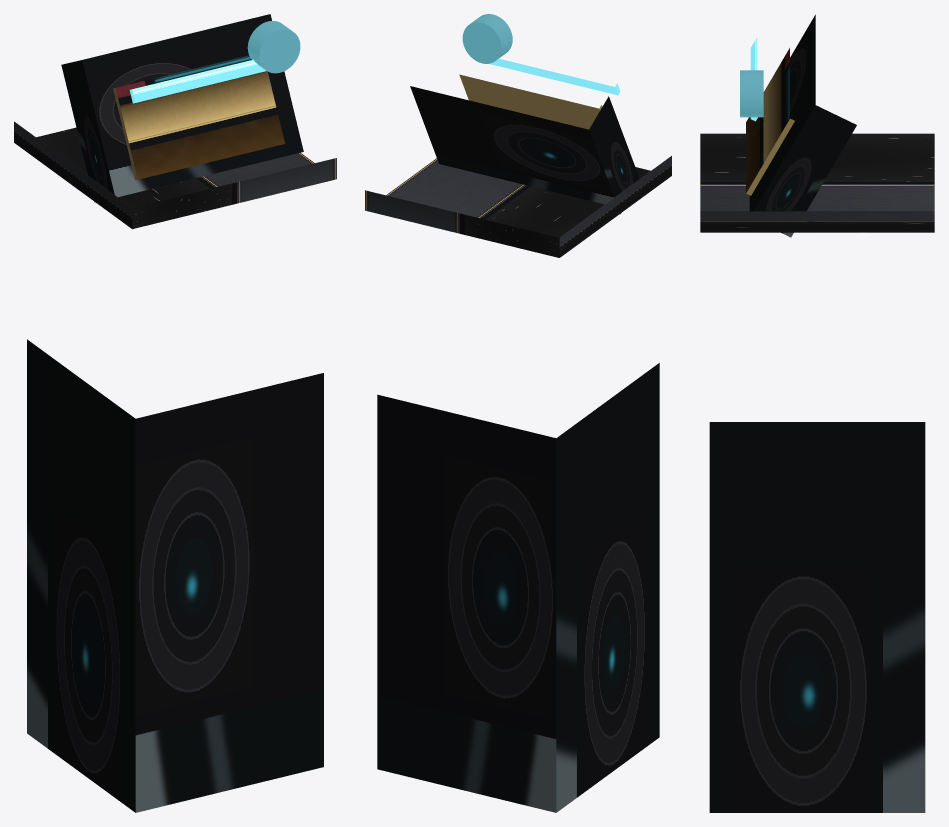
File: room_l3_img2_label_terminal.glb
3 renders of one model, left to right at view 1: azimuth 30°, elevation 25°; view 2: azimuth 150°, elevation 25°; view 3: azimuth 270°, elevation 25°, orthographic. The views are drawn at different scales.
Visible parts, largest first — view 1: pedestal, head, label_panel, collar, camera_lens, scanner_strip; view 2: pedestal, head, collar, label_panel, camera_lens, scanner_strip; view 3: pedestal, collar, head, label_panel, camera_lens.
Boxes of the visible parts, box(x1,y1,x2,y2) form: pedestal: box(27, 339, 323, 812); head: box(61, 14, 303, 202); label_panel: box(113, 55, 284, 180); collar: box(14, 121, 336, 229); camera_lens: box(247, 21, 300, 73); scanner_strip: box(129, 59, 266, 103); pedestal: box(377, 363, 659, 812); head: box(410, 86, 639, 214); collar: box(365, 156, 671, 257); label_panel: box(459, 74, 602, 129); camera_lens: box(462, 14, 512, 63); scanner_strip: box(489, 58, 620, 95); pedestal: box(709, 422, 925, 812); collar: box(700, 133, 934, 232); head: box(749, 14, 856, 237); label_panel: box(746, 48, 794, 195); camera_lens: box(740, 70, 763, 117).
Size of the model in its own units: 0.5 by 1.71 by 0.5.
6 materials, 6 textured.
